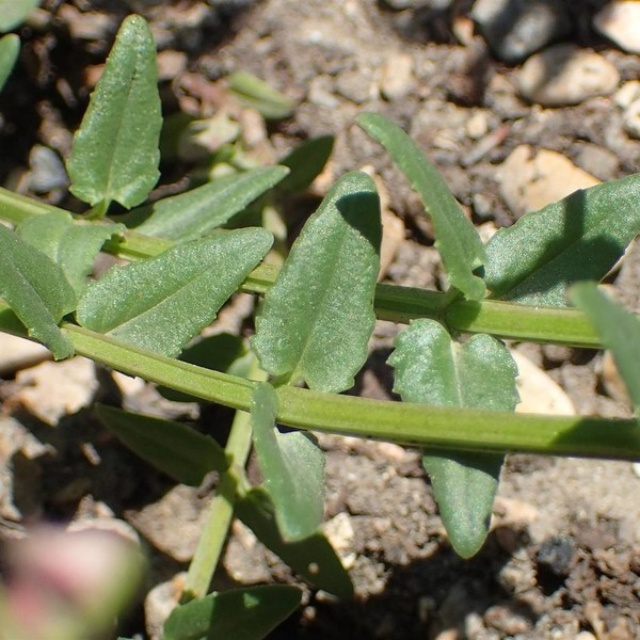obstacle: (35, 162, 620, 505)
